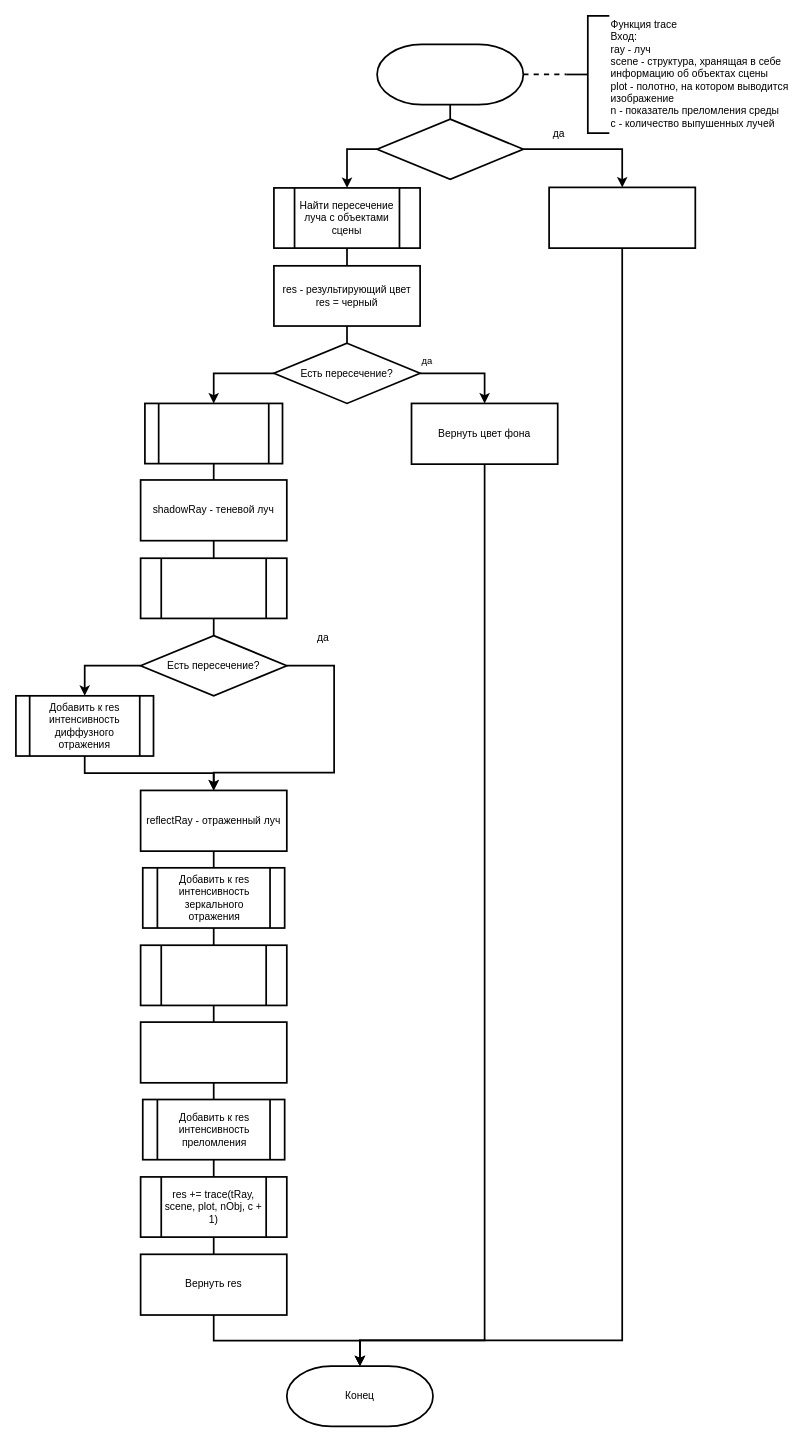
Image size: 803x1441. Some labels were removed from this diagram. Each missing label, with the box of its shape:
c >= 5?: (376, 118, 524, 180)
res += trace(reflectRay, scene, plot, n, c + 1): (139, 944, 287, 1006)
tRay - преломленный луч nObj - показатель преломления объекта: (139, 1021, 287, 1083)
Вернуть черный цвет: (548, 186, 696, 249)
Добавить к res интенсивность рассеянного отражения: (144, 402, 283, 464)
Найти пересечение теневого луча с объектами сцены: (139, 557, 287, 619)
Начало: (376, 43, 524, 105)
